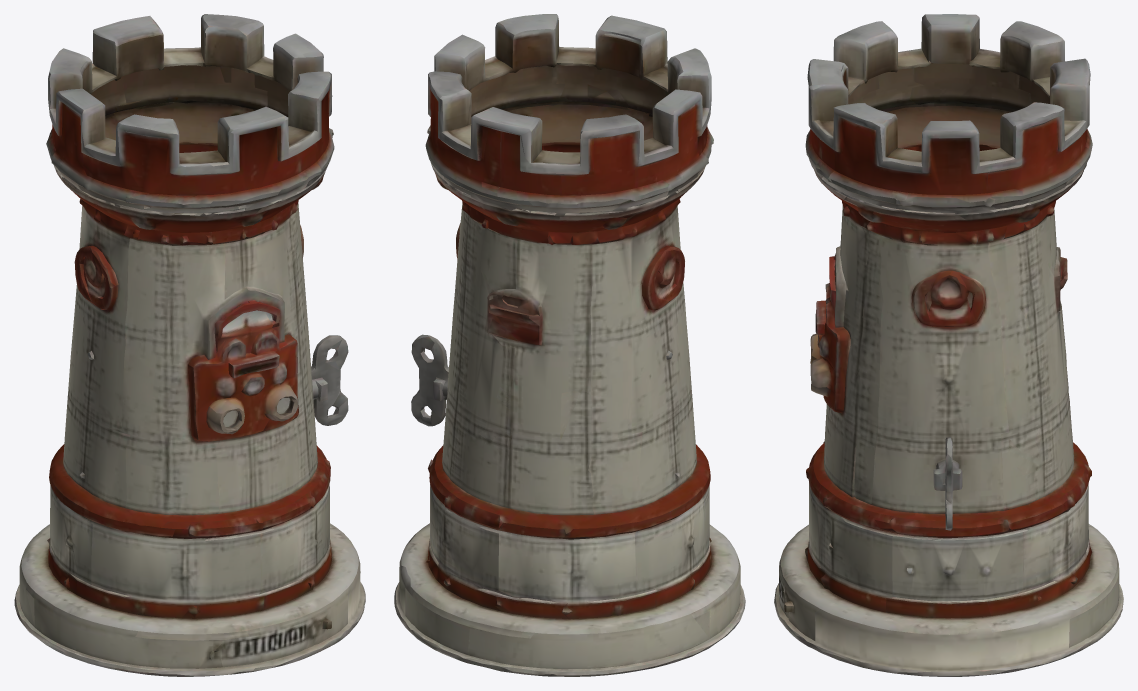
3 renders of one model, left to right at view 1: azimuth 30°, elevation 25°; view 2: azimuth 150°, elevation 25°; view 3: azimuth 270°, elevation 25°, orthographic.
Parts seen in each view (by area): view 1: world; view 2: world; view 3: world.
Boxes of the visible parts, bbox=[...] form: world: bbox=[14, 14, 365, 676]; world: bbox=[394, 14, 745, 676]; world: bbox=[774, 14, 1123, 676].
Size of the model in its own units: 0.171 by 0.28 by 0.167.
Materials: 1 (1 with a texture image).
